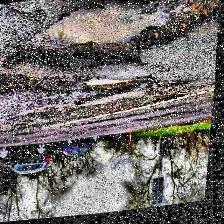pothole: (7, 0, 222, 80), (82, 74, 144, 104)
